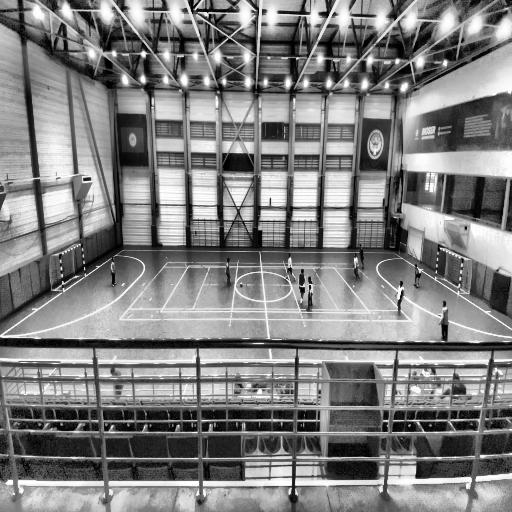ball: (240, 279, 244, 287)
player: (439, 300, 450, 342), (396, 278, 405, 316), (298, 268, 306, 308), (285, 253, 296, 282), (306, 276, 314, 312), (352, 252, 361, 281), (413, 263, 422, 291), (224, 257, 232, 287), (110, 255, 117, 287), (358, 244, 364, 269)
